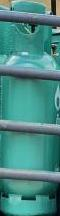cylinder: (1, 1, 60, 216)
